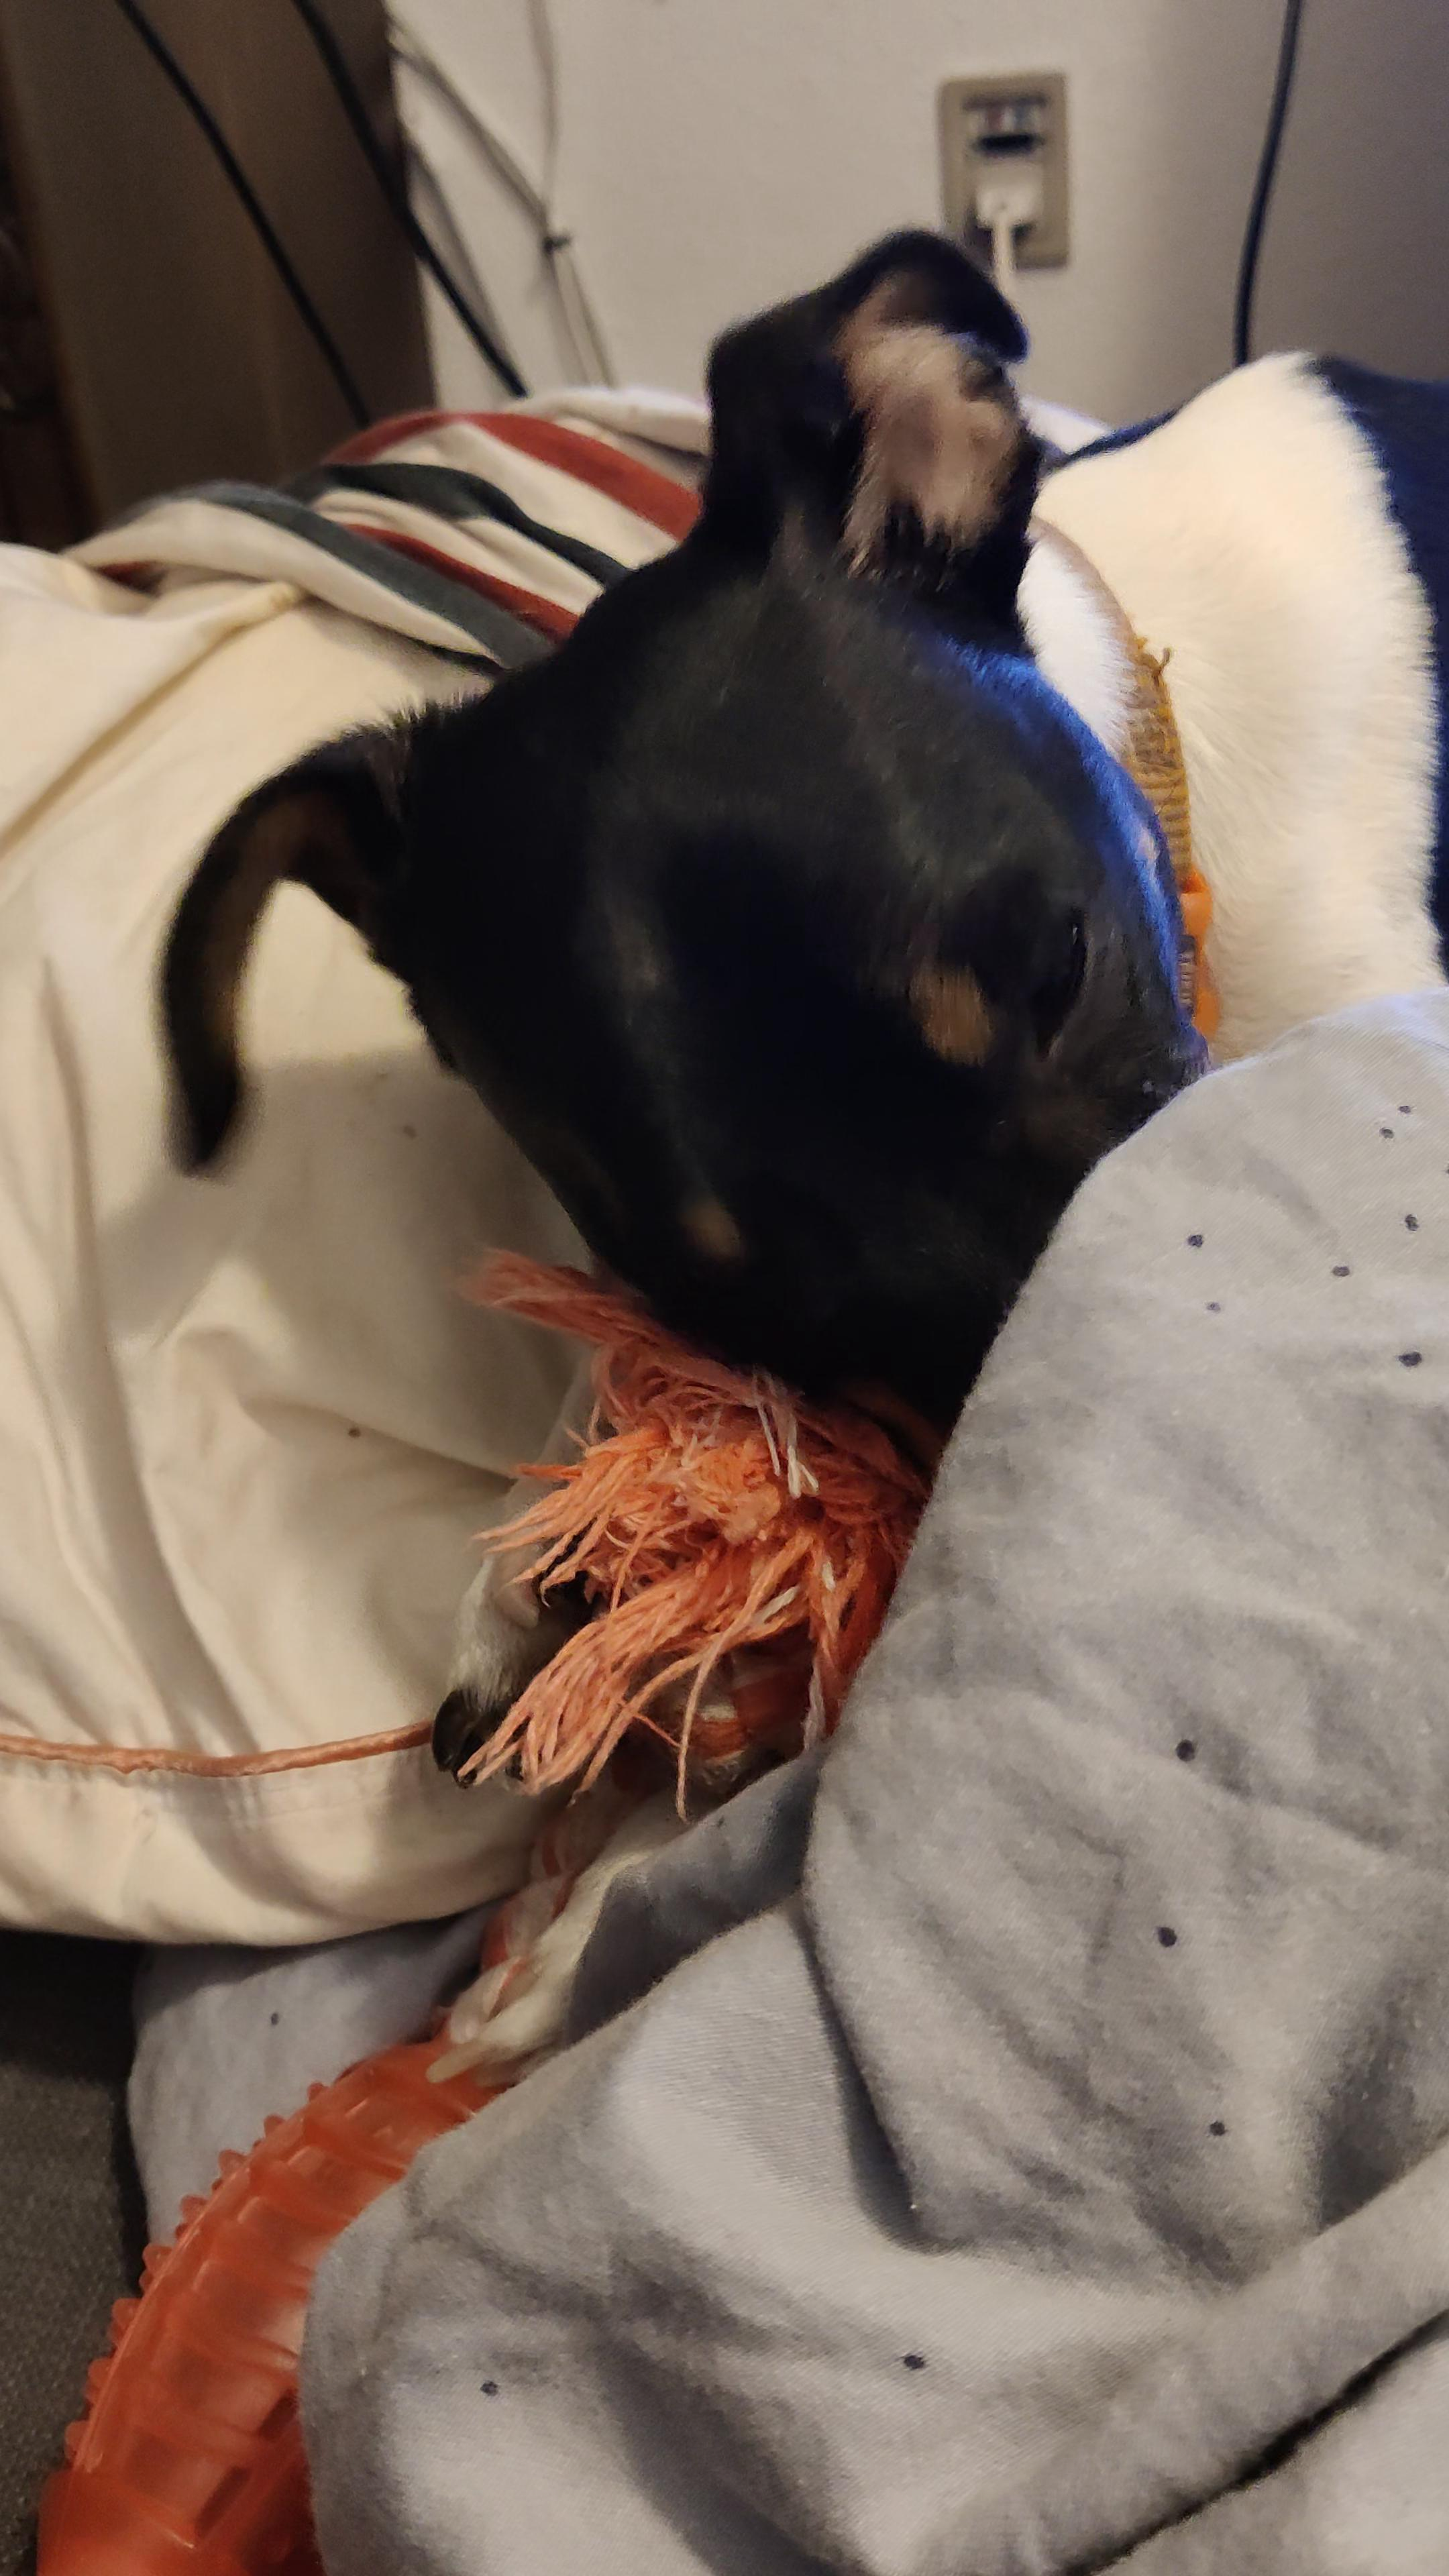Dog: (127, 184, 1449, 2135)
